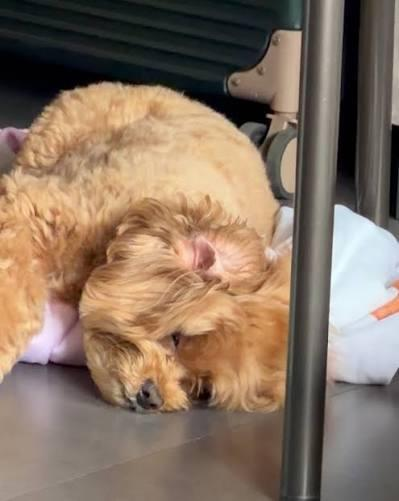adult_dog: (1, 81, 295, 416)
